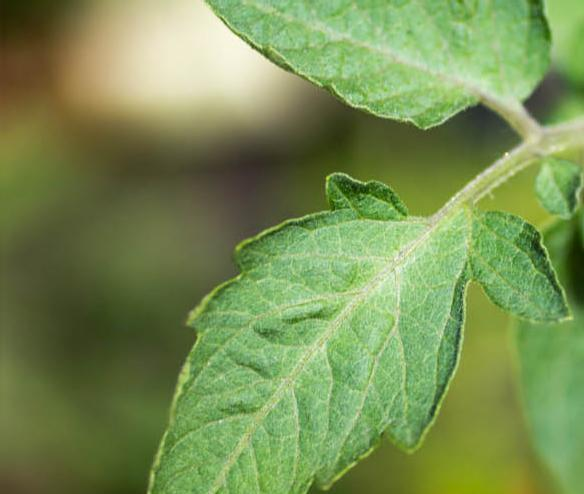Tomato leaf: (65, 177, 506, 494), (91, 0, 584, 131)
